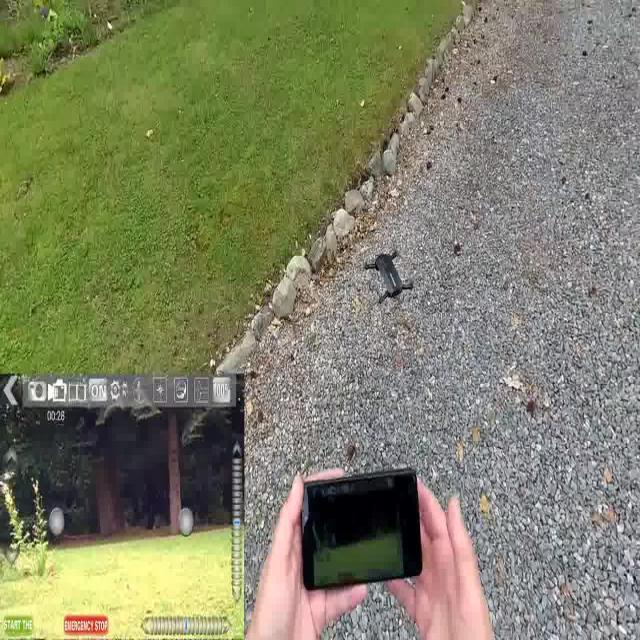drone: (362, 243, 416, 308)
